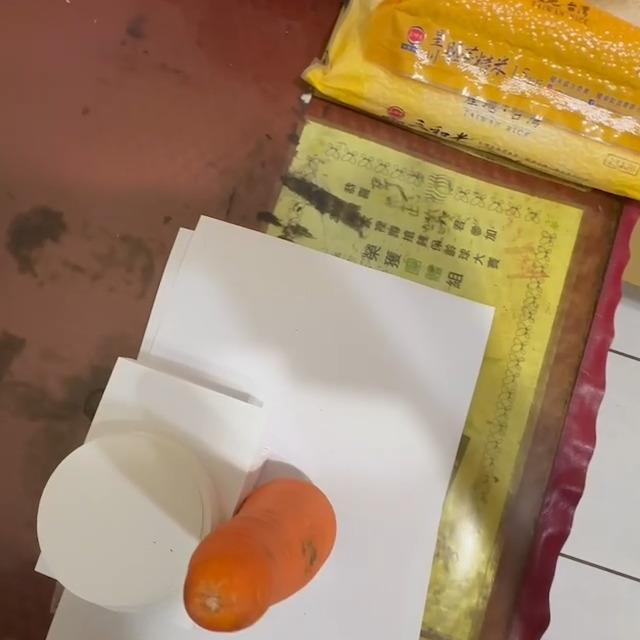carrot: (189, 482, 339, 631)
